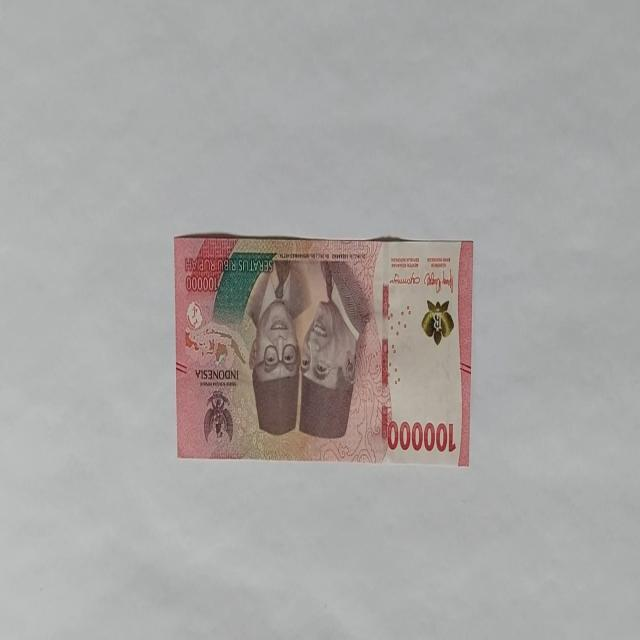seratus ribu rupiah: (174, 232, 474, 466)
